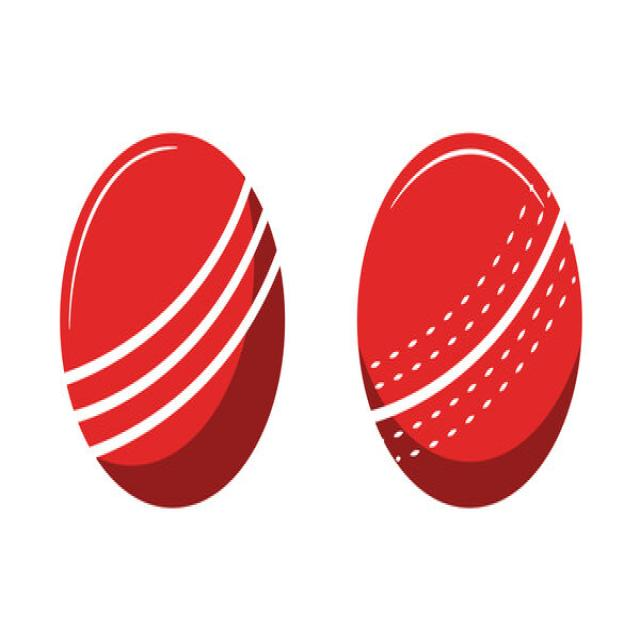ball: (354, 126, 587, 512), (58, 134, 288, 511)
